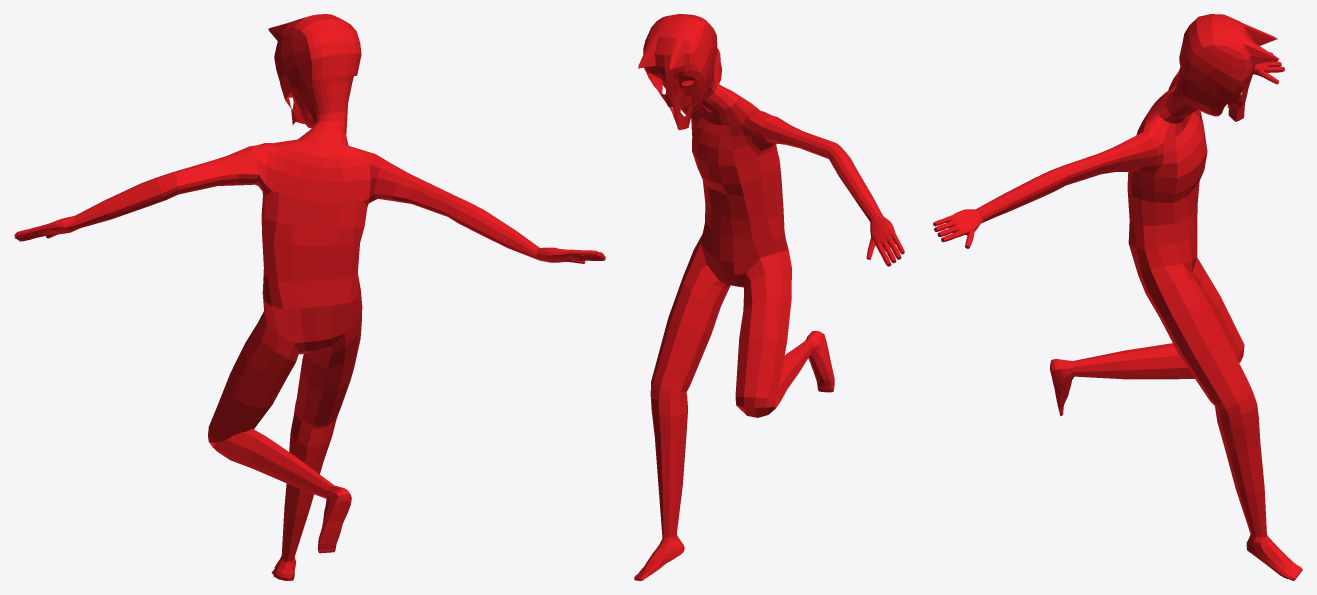
The model's file is saltoadelanteE_000123.obj.
The picture shows the model from 3 angles, left to right: view 1: azimuth 30°, elevation 25°; view 2: azimuth 150°, elevation 25°; view 3: azimuth 270°, elevation 25°; orthographic projection. The views are drawn at different scales.
Visible parts, largest first — view 1: Plane.002_Plane.001; view 2: Plane.002_Plane.001; view 3: Plane.002_Plane.001.
Boxes of the visible parts, <box> form: Plane.002_Plane.001: <box>14,14,605,580</box>; Plane.002_Plane.001: <box>634,14,904,580</box>; Plane.002_Plane.001: <box>933,14,1302,580</box>.
Bounding box in the file's own units: 5.05 × 6.89 × 4.15.
